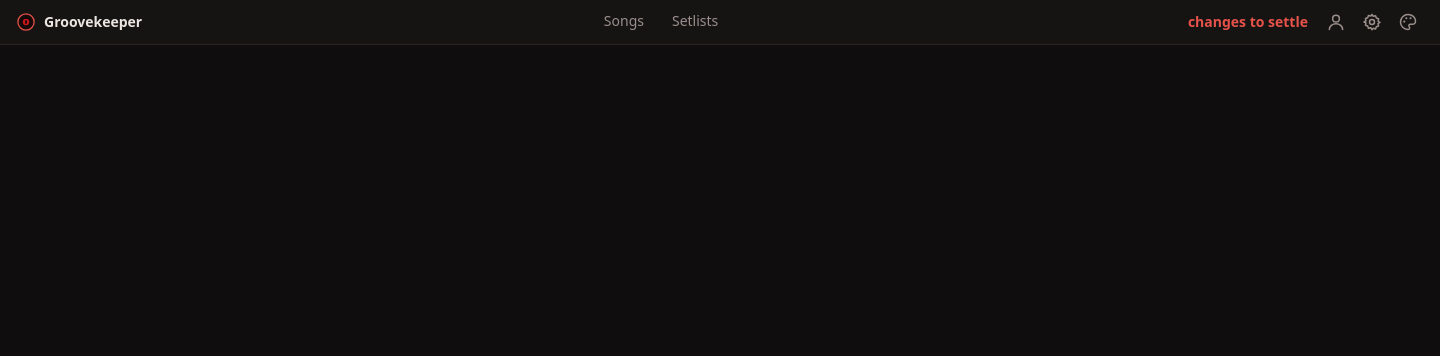
the account menu while songs on this device wait for an answer › offers only to finish signing in, not to sign out (that would lose them)
Click the button named "Account: me@example.com" at {"x": 1336, "y": 22}, box [1320, 6, 1352, 38]
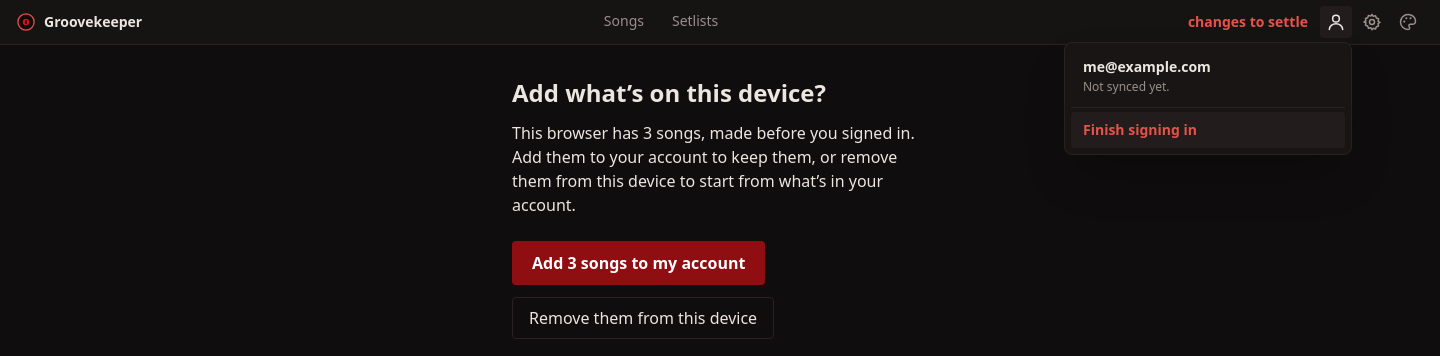
Result: the menu items read "Finish signing in", in this order at [1071, 112, 1345, 148]
